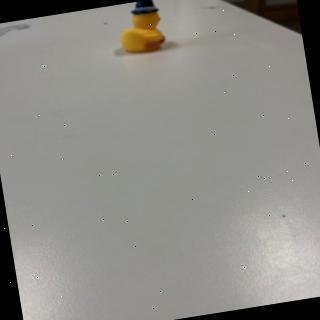duck_specialty: (114, 1, 171, 57)
